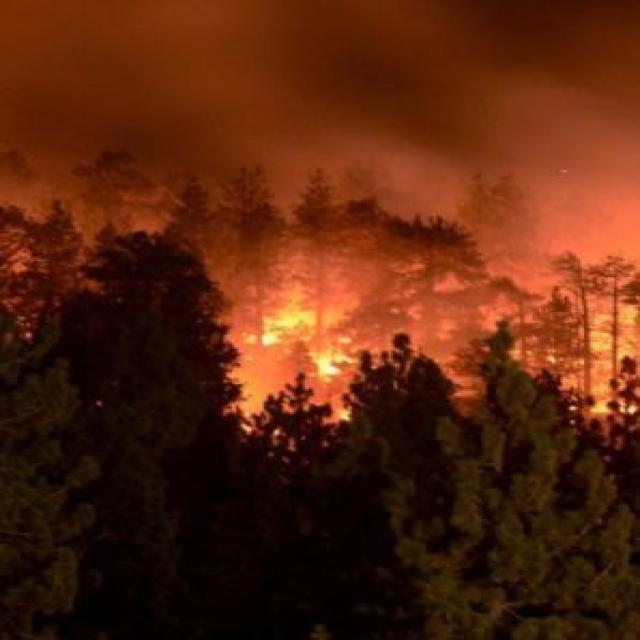Fire: (227, 249, 371, 401)
